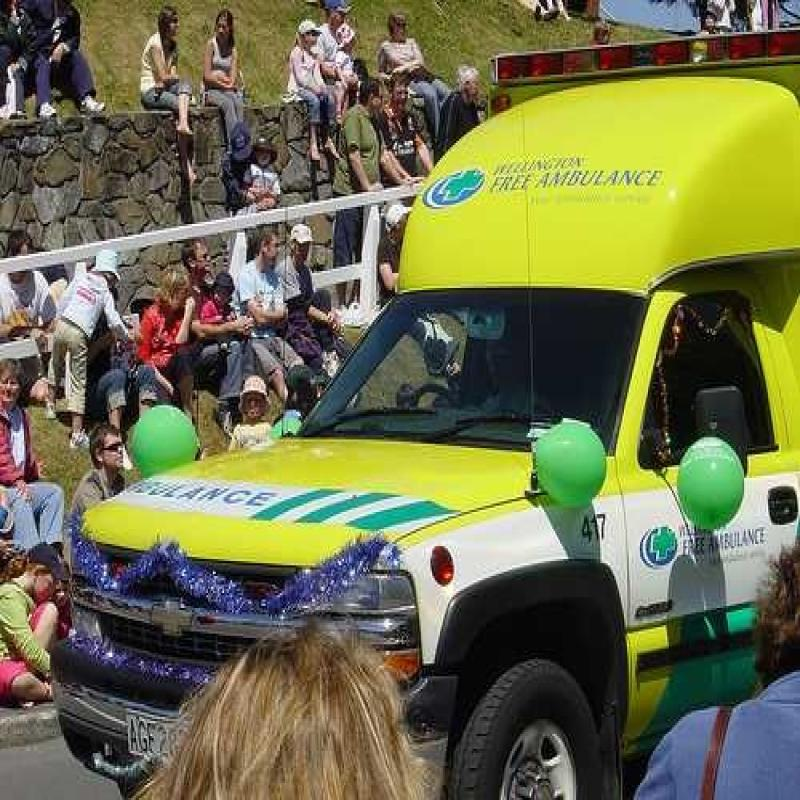AmbulanceSiren: (489, 12, 800, 84)
